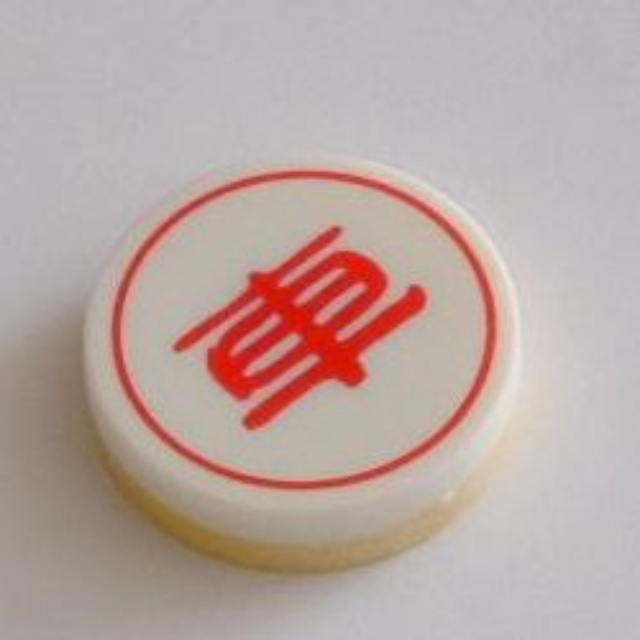red_xe: (69, 147, 535, 569)
